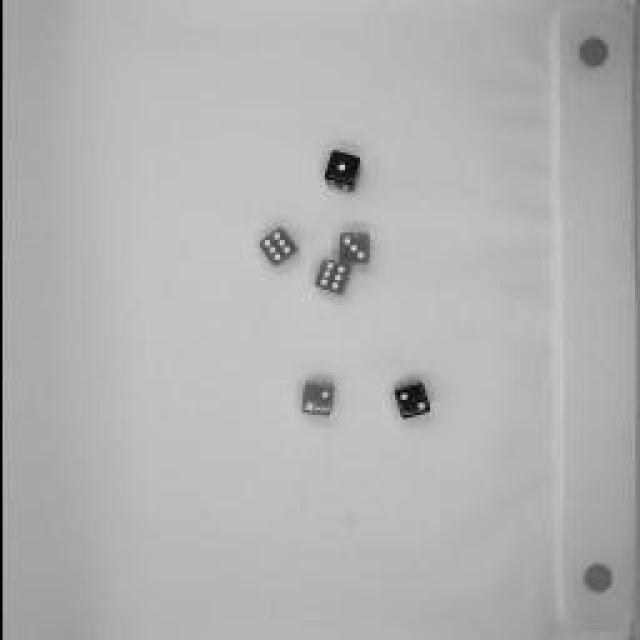dice_1: (320, 149, 360, 196)
dice_2: (388, 380, 430, 420), (296, 378, 334, 420)
dice_3: (335, 232, 370, 266)
dice_6: (252, 226, 298, 272), (308, 258, 350, 298)
